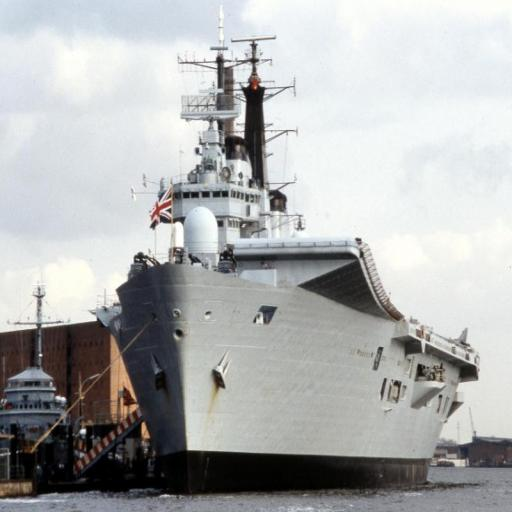Portanaves: (98, 2, 487, 490)
